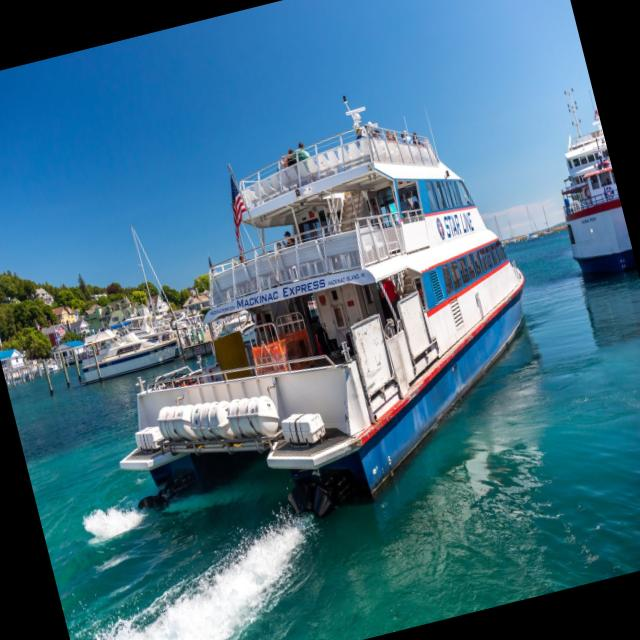boat: (30, 0, 595, 610)
